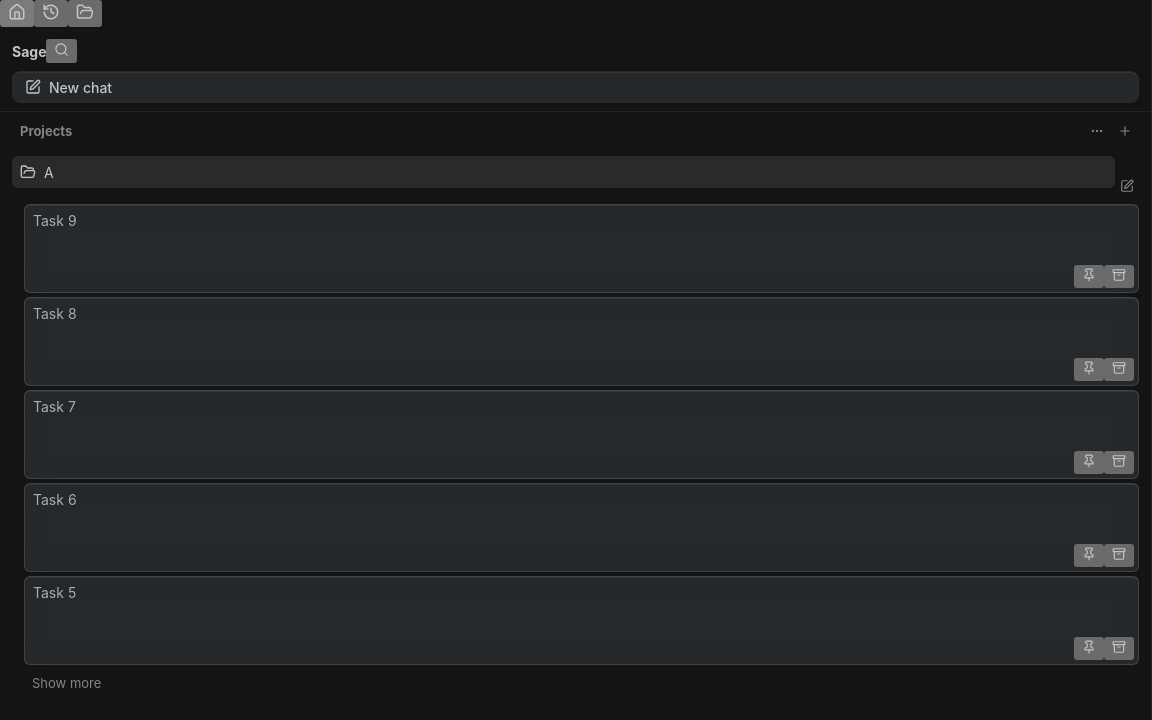
shows a collapsed project as running when any of its chats runs, even past the preview
Click the button named "Project A". click: (28, 172)
box: [12,156,1115,188]
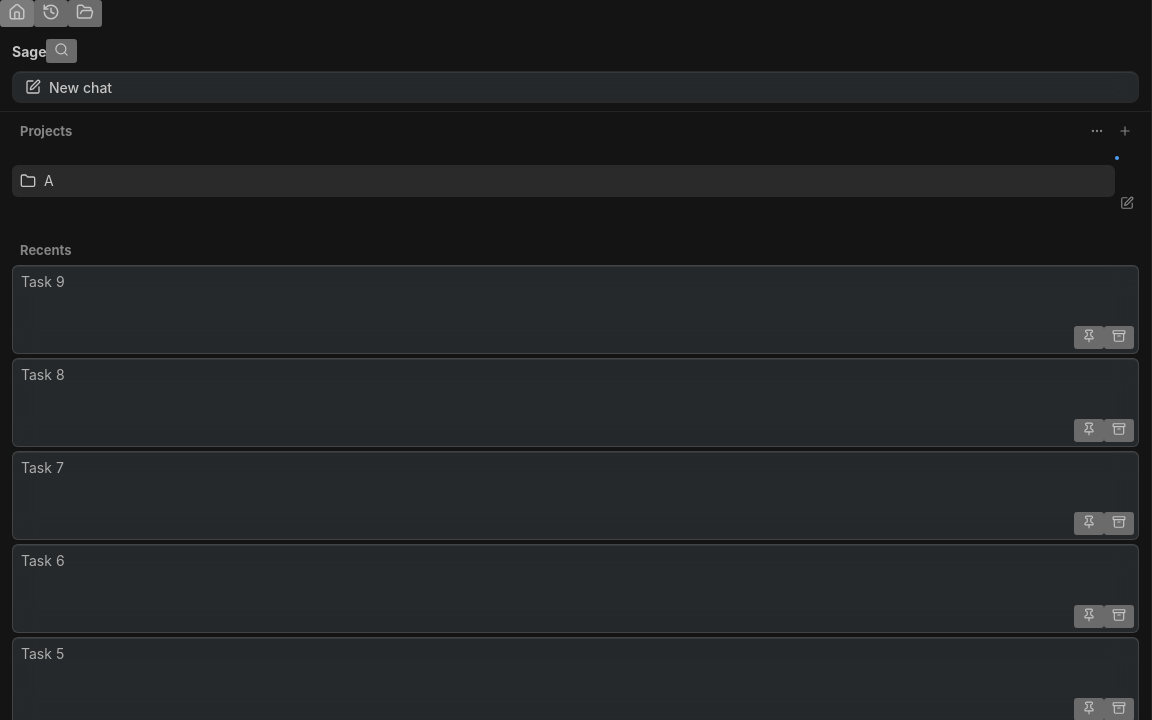
Expected: the picture named "Working" is shown, [1115,156,1119,160]
